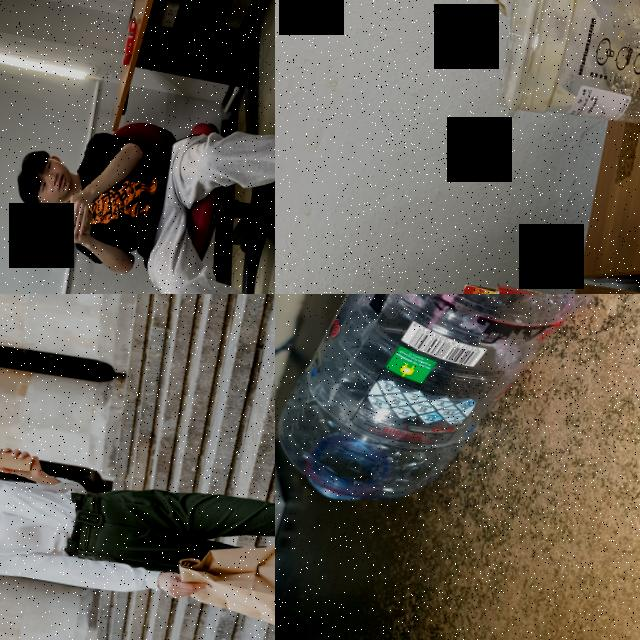bottle: (275, 294, 640, 550)
cup: (492, 0, 640, 142), (50, 200, 96, 240), (0, 445, 34, 474)
